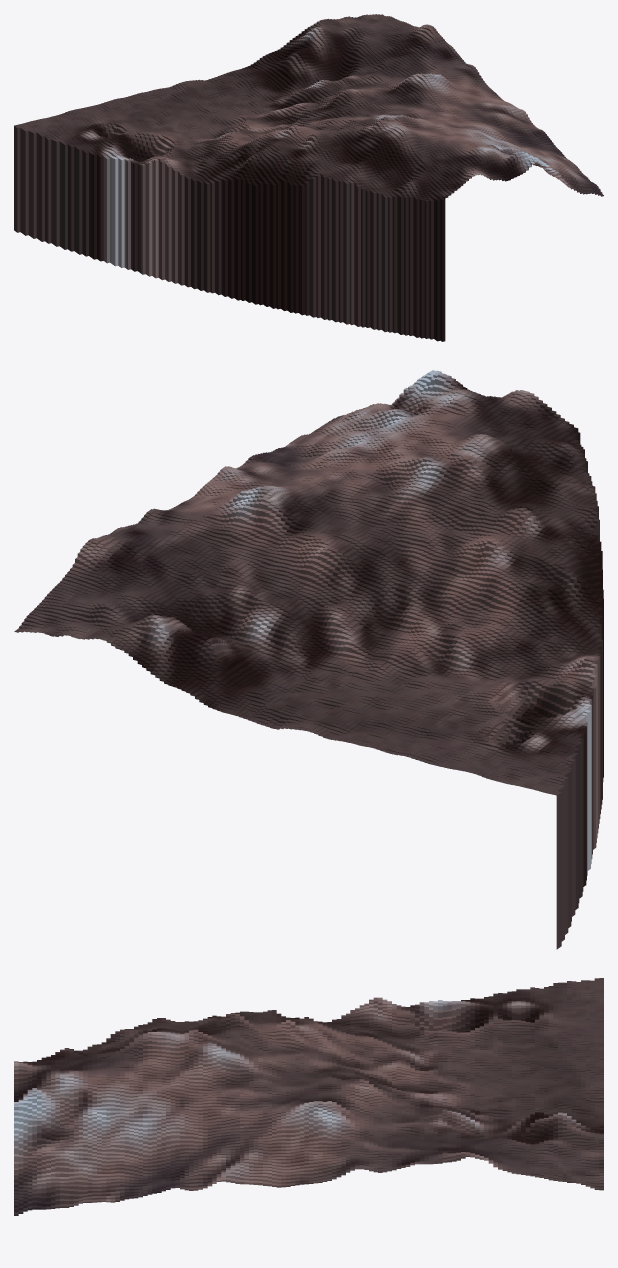
The model's file is chunk-30.glb.
The picture shows the model from 3 angles, top to bottom: view 1: azimuth 30°, elevation 25°; view 2: azimuth 150°, elevation 25°; view 3: azimuth 270°, elevation 25°; orthographic projection. The views are drawn at different scales.
Parts seen in each view (by area): view 1: Mesh_0.046; view 2: Mesh_0.046; view 3: Mesh_0.046.
Part boxes in pixels (x1,y1,x2,y2): Mesh_0.046: (14, 14, 603, 341); Mesh_0.046: (14, 370, 603, 949); Mesh_0.046: (14, 978, 603, 1215).
Size of the model in its own units: 30750 by 13602 by 32000.
